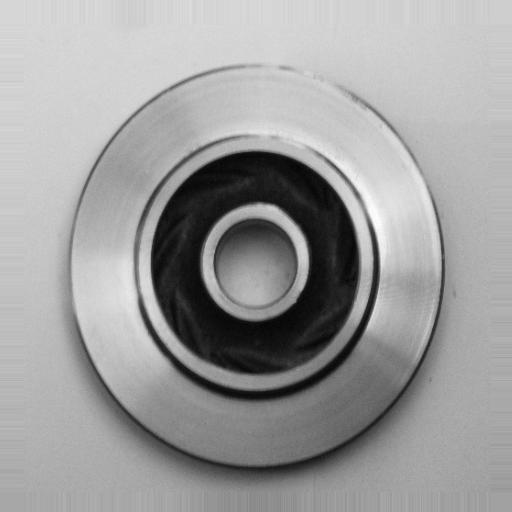scratch: (270, 43, 392, 114), (235, 129, 330, 159)
unpolished_casting: (69, 60, 447, 473)
